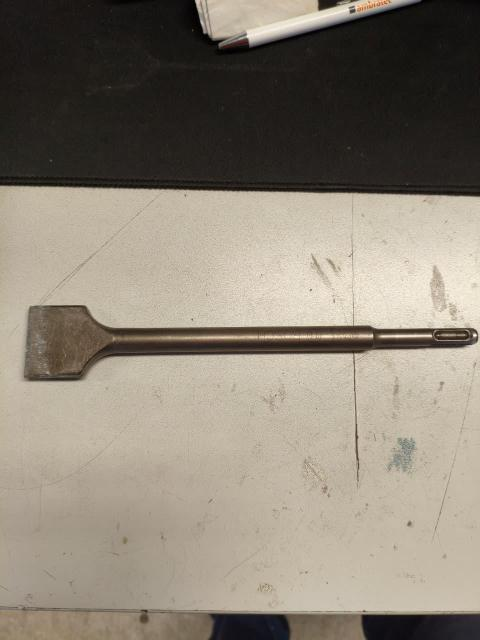Metal: (21, 296, 480, 393)
